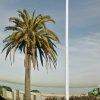Palm tree: (5, 7, 58, 99)
